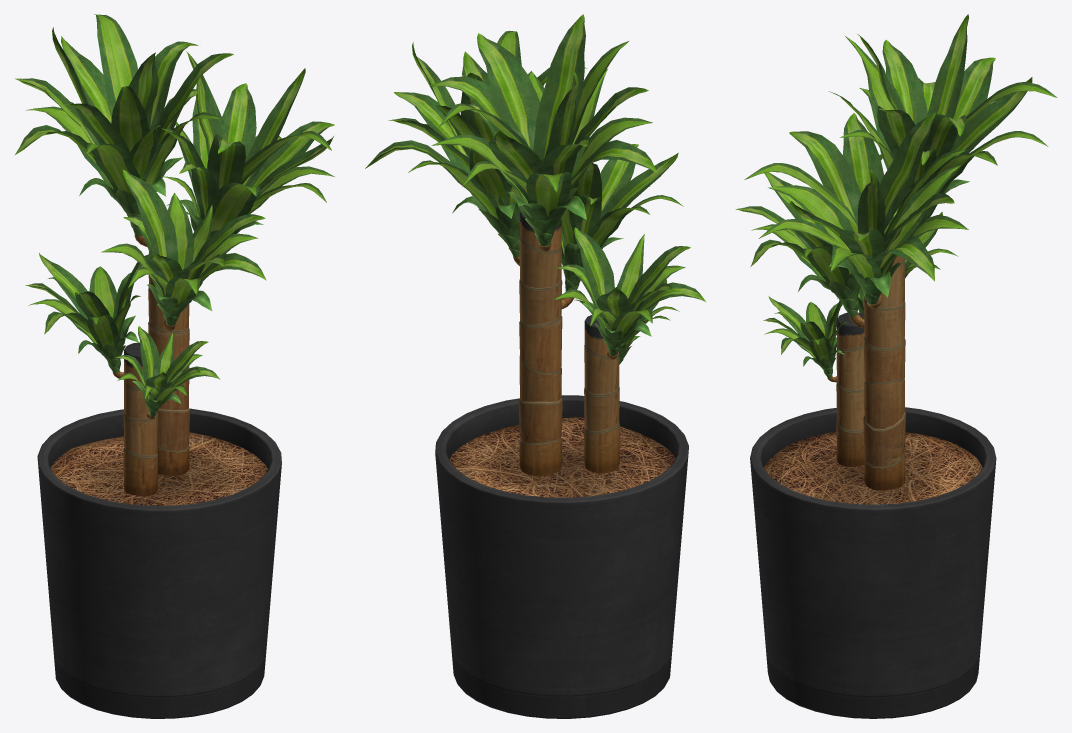
Rendered from BP_RoomPlantsSet01_DracaenaA.fbx.
3 renders of one model, left to right at view 1: azimuth 30°, elevation 25°; view 2: azimuth 150°, elevation 25°; view 3: azimuth 270°, elevation 25°, orthographic. The views are drawn at different scales.
Visible parts, largest first — view 1: Hachi, Ha, Ha_ura, Tsuchi, Miki; view 2: Hachi, Ha, Miki, Ha_ura, Tsuchi; view 3: Hachi, Ha, Miki, Ha_ura, Tsuchi.
Part boxes in pixels (x1,y1,x2,y2): Hachi: (37,408,281,718); Ha: (15,14,334,417); Ha_ura: (15,15,332,416); Tsuchi: (50,432,268,505); Miki: (112,234,190,496); Hachi: (435,395,688,718); Ha: (365,14,705,364); Miki: (513,211,619,476); Ha_ura: (368,16,703,363); Tsuchi: (449,417,675,497); Hachi: (750,407,996,718); Ha: (735,14,1057,378); Miki: (827,255,905,490); Ha_ura: (738,15,1051,376); Tsuchi: (763,432,982,504).
Bounding box in the file's own units: 34.16 × 69.73 × 32.07.
